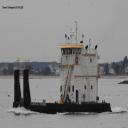tugboat: (13, 21, 113, 119)
